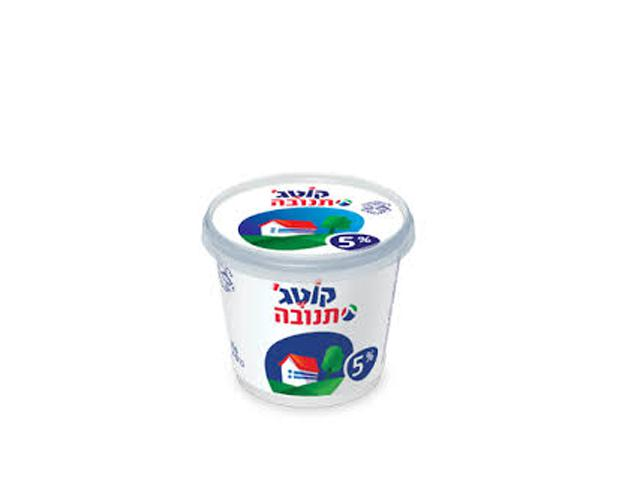cotage: (193, 169, 406, 412)
